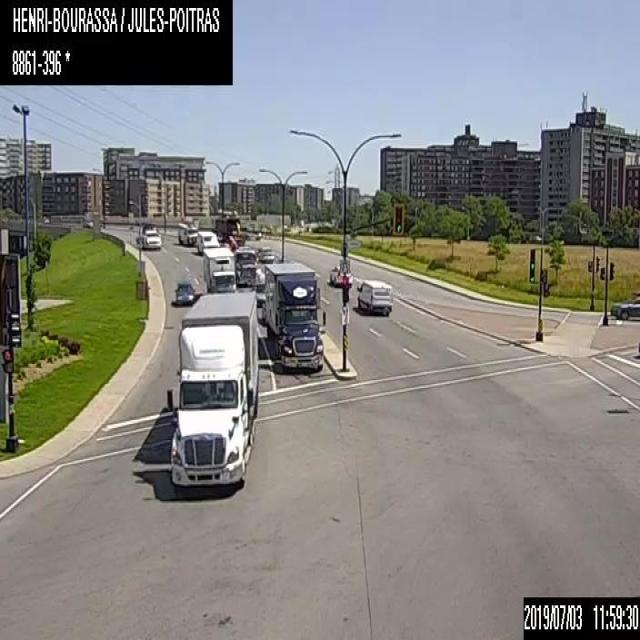vehicle: (164, 289, 257, 487), (264, 262, 326, 372), (202, 246, 235, 291), (355, 276, 393, 314), (234, 245, 258, 286), (609, 292, 639, 319), (195, 230, 218, 254), (141, 225, 161, 251), (329, 264, 352, 286), (173, 282, 194, 306), (176, 222, 196, 244), (256, 244, 273, 262), (81, 218, 93, 228)
